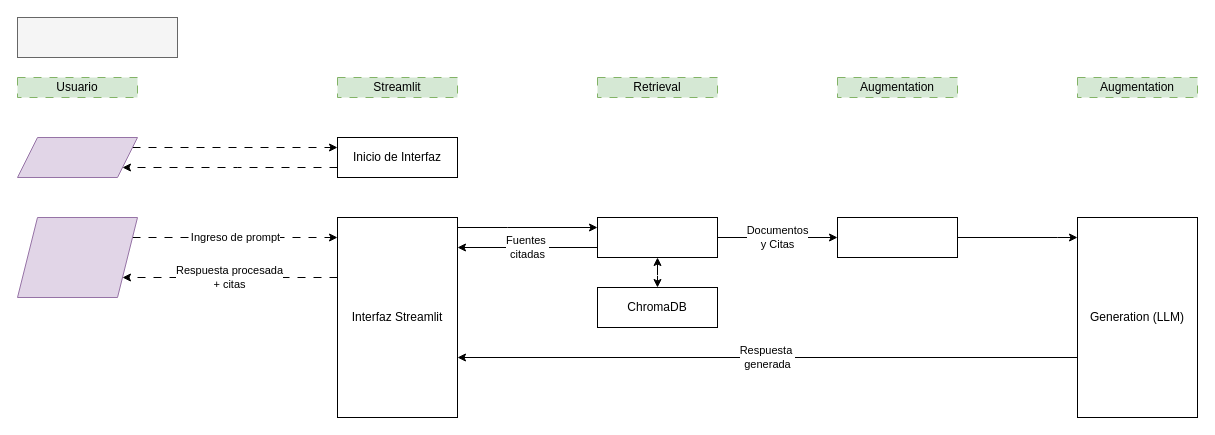
Image size: 1215x435. Some labels were removed from this diagram. Here are the shapes that lost their labels. From the top down, the box of each, then its label:
(16, 16, 178, 58): Pipeline RAG
(16, 136, 138, 178): Ingreso
(16, 216, 138, 298): Consulta de usuario
(596, 216, 718, 258): Invoke
(836, 216, 958, 258): Prompt Template
